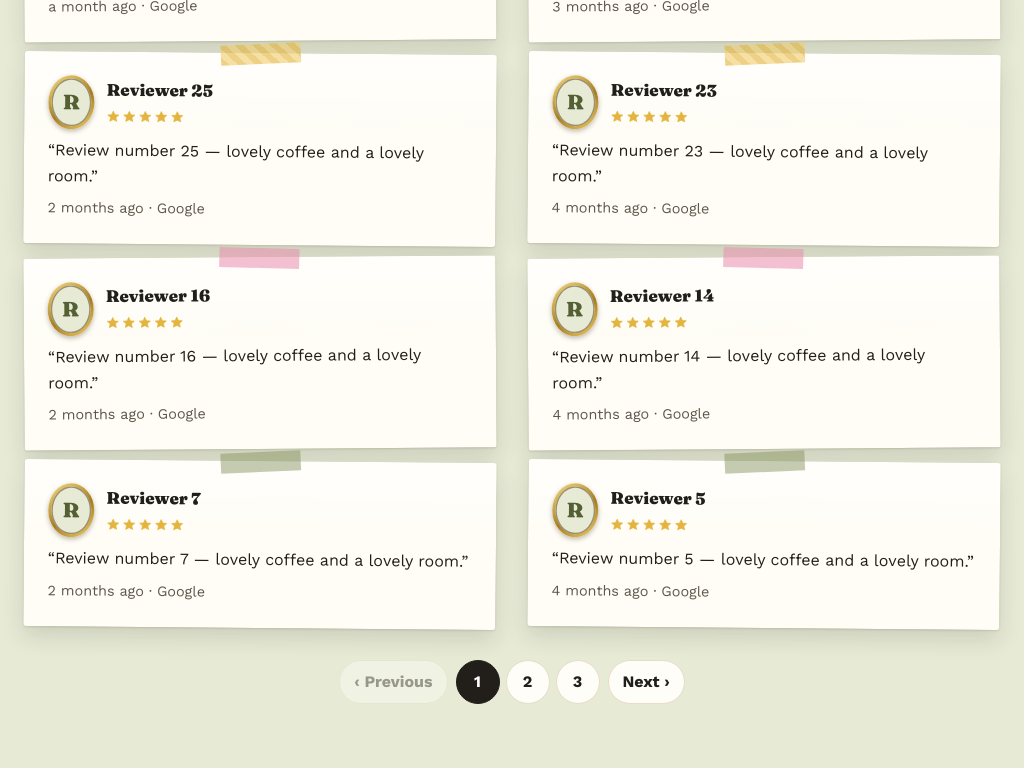
Scenario: the Reviews page Google feed › pages through every review, 12 at a time (ignoring the old count cap), and keeps the page in the URL
The image size is (1024, 768).
(page scrolled)
Click the button named "Page 3": x=578, y=682 [556,660,600,704]
(page scrolled)
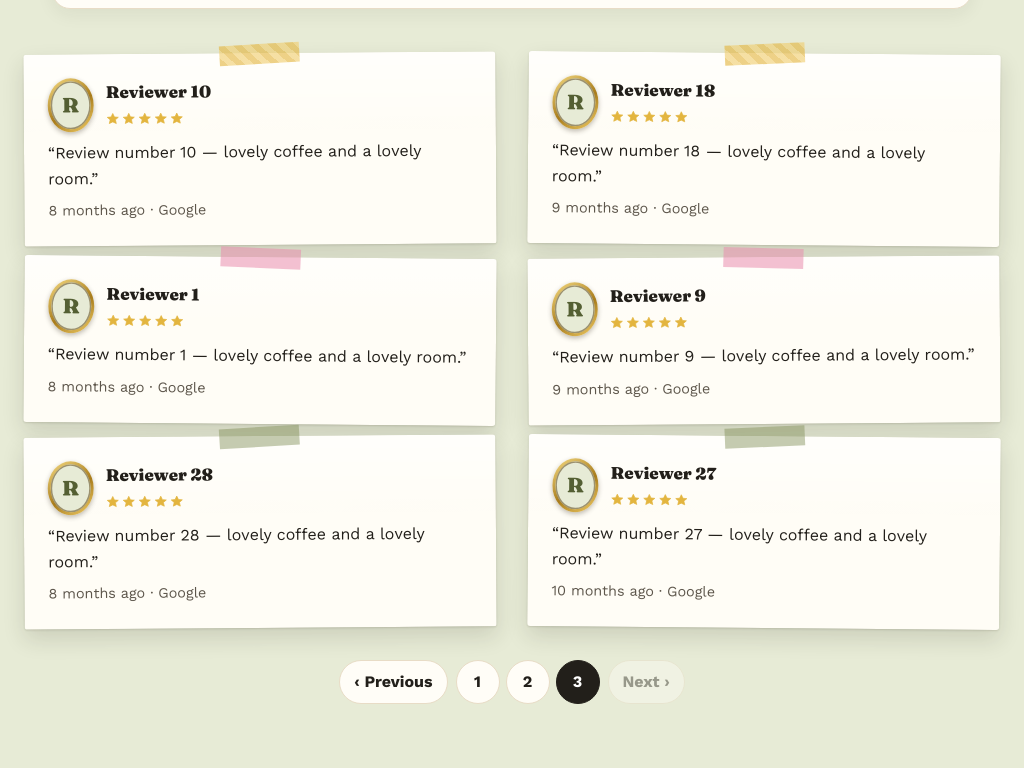
Now the number of elements with class "testimonial" is 6, box [23,51,497,247]; [23,255,497,426]; [23,434,497,630]; [527,51,1001,247]; [527,256,1001,425]; [527,434,1001,630]
Now the button "Next ›" is disabled, box [608,660,685,704]
